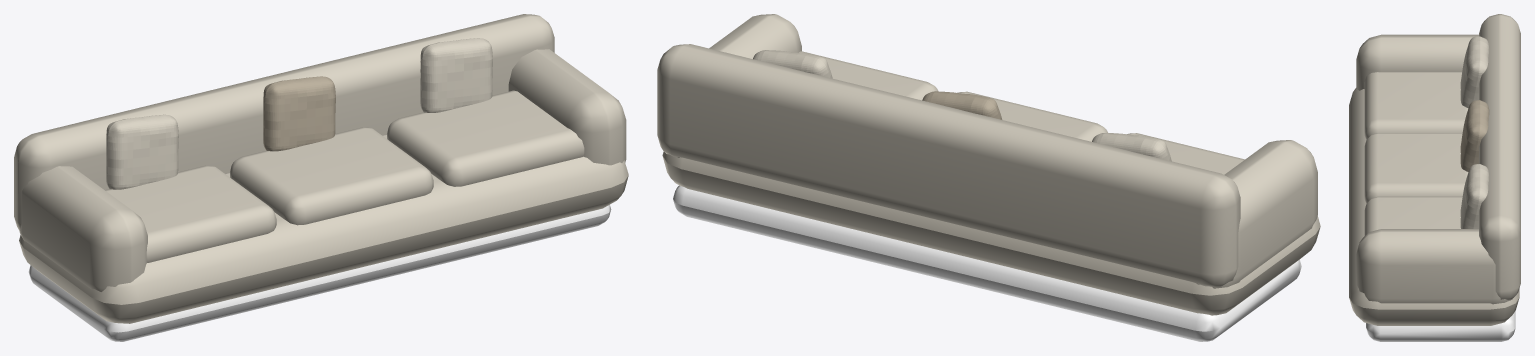
Rendered from sofa.glb.
The picture shows the model from 3 angles, left to right: view 1: azimuth 30°, elevation 25°; view 2: azimuth 150°, elevation 25°; view 3: azimuth 270°, elevation 25°; orthographic projection. The views are drawn at different scales.
Visible parts, largest first — view 1: Cloud sofa base.001, Cloud sofa back.001, Separate boucle cushion.004, Separate boucle cushion.005, Rounded sofa arm.002, Sofa floating walnut plinth.001, Separate boucle cushion.003, Rounded sofa arm.003, Linen accent pillow.004, Linen accent pillow.003, Linen accent pillow.005; view 2: Cloud sofa back.001, Cloud sofa base.001, Sofa floating walnut plinth.001, Rounded sofa arm.002, Rounded sofa arm.003, Separate boucle cushion.004, Separate boucle cushion.005, Separate boucle cushion.003, Linen accent pillow.005, Linen accent pillow.004, Linen accent pillow.003; view 3: Cloud sofa back.001, Rounded sofa arm.003, Cloud sofa base.001, Separate boucle cushion.004, Separate boucle cushion.003, Rounded sofa arm.002, Separate boucle cushion.005, Sofa floating walnut plinth.001, Linen accent pillow.003, Linen accent pillow.004, Linen accent pillow.005.
Boxes of the visible parts, x1=… form: Cloud sofa base.001: x1=19, y1=135, x2=628, y2=323; Cloud sofa back.001: x1=14, y1=14, x2=554, y2=231; Separate boucle cushion.004: x1=230, y1=127, x2=433, y2=225; Separate boucle cushion.005: x1=387, y1=90, x2=584, y2=186; Rounded sofa arm.002: x1=19, y1=166, x2=147, y2=291; Sofa floating walnut plinth.001: x1=28, y1=204, x2=611, y2=341; Separate boucle cushion.003: x1=105, y1=165, x2=276, y2=262; Rounded sofa arm.003: x1=508, y1=49, x2=626, y2=165; Linen accent pillow.004: x1=263, y1=76, x2=335, y2=151; Linen accent pillow.003: x1=106, y1=114, x2=178, y2=189; Linen accent pillow.005: x1=420, y1=38, x2=492, y2=112; Cloud sofa back.001: x1=657, y1=44, x2=1240, y2=288; Cloud sofa base.001: x1=662, y1=151, x2=1320, y2=315; Sofa floating walnut plinth.001: x1=673, y1=185, x2=1301, y2=341; Rounded sofa arm.002: x1=1196, y1=140, x2=1317, y2=288; Rounded sofa arm.003: x1=667, y1=14, x2=801, y2=157; Separate boucle cushion.004: x1=957, y1=91, x2=1107, y2=141; Separate boucle cushion.005: x1=799, y1=51, x2=938, y2=100; Separate boucle cushion.003: x1=1127, y1=133, x2=1244, y2=174; Linen accent pillow.005: x1=753, y1=50, x2=832, y2=78; Linen accent pillow.004: x1=922, y1=91, x2=1002, y2=119; Linen accent pillow.003: x1=1092, y1=133, x2=1171, y2=161; Cloud sofa back.001: x1=1479, y1=14, x2=1520, y2=300; Rounded sofa arm.003: x1=1356, y1=229, x2=1512, y2=304; Cloud sofa base.001: x1=1349, y1=88, x2=1519, y2=325; Separate boucle cushion.004: x1=1364, y1=133, x2=1468, y2=203; Separate boucle cushion.003: x1=1364, y1=72, x2=1468, y2=139; Rounded sofa arm.002: x1=1356, y1=34, x2=1478, y2=90; Separate boucle cushion.005: x1=1364, y1=196, x2=1462, y2=235; Sofa floating walnut plinth.001: x1=1366, y1=311, x2=1515, y2=341; Linen accent pillow.003: x1=1460, y1=36, x2=1489, y2=108; Linen accent pillow.004: x1=1460, y1=100, x2=1489, y2=171; Linen accent pillow.005: x1=1460, y1=164, x2=1489, y2=228.
Size of the model in its own units: 3.9 by 1.13 by 1.31.
